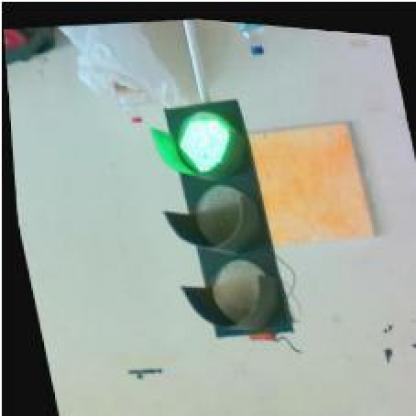green: (136, 84, 285, 341)
